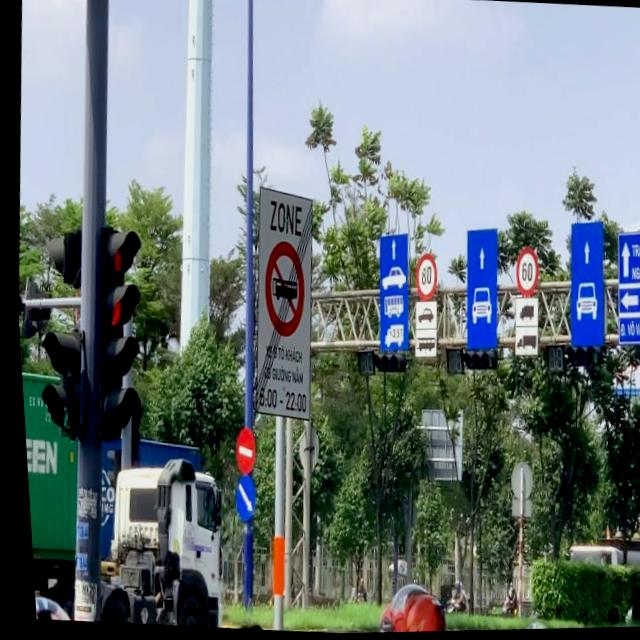Cam di nguoc chieu: (227, 426, 252, 476)
Toc do toi da cho phep: (509, 247, 538, 299), (408, 253, 436, 304)
Vong chuong ngai vat sang phai: (226, 474, 252, 523)
